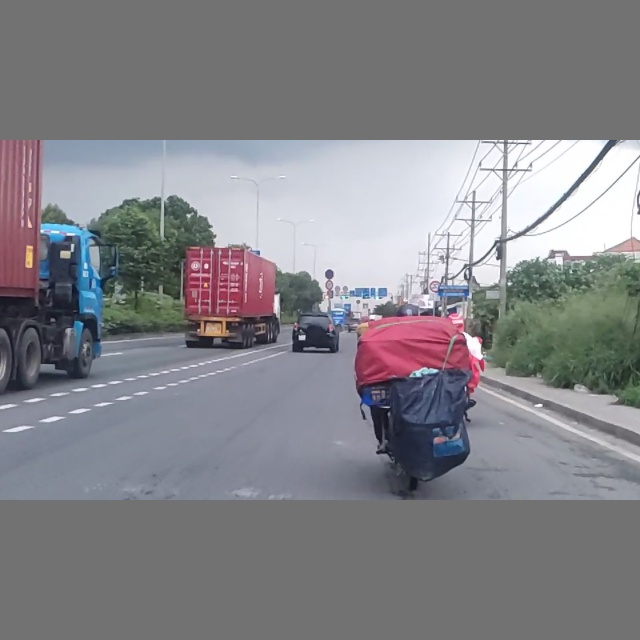P.107: (429, 281, 441, 293)
P.130: (324, 268, 335, 279)
